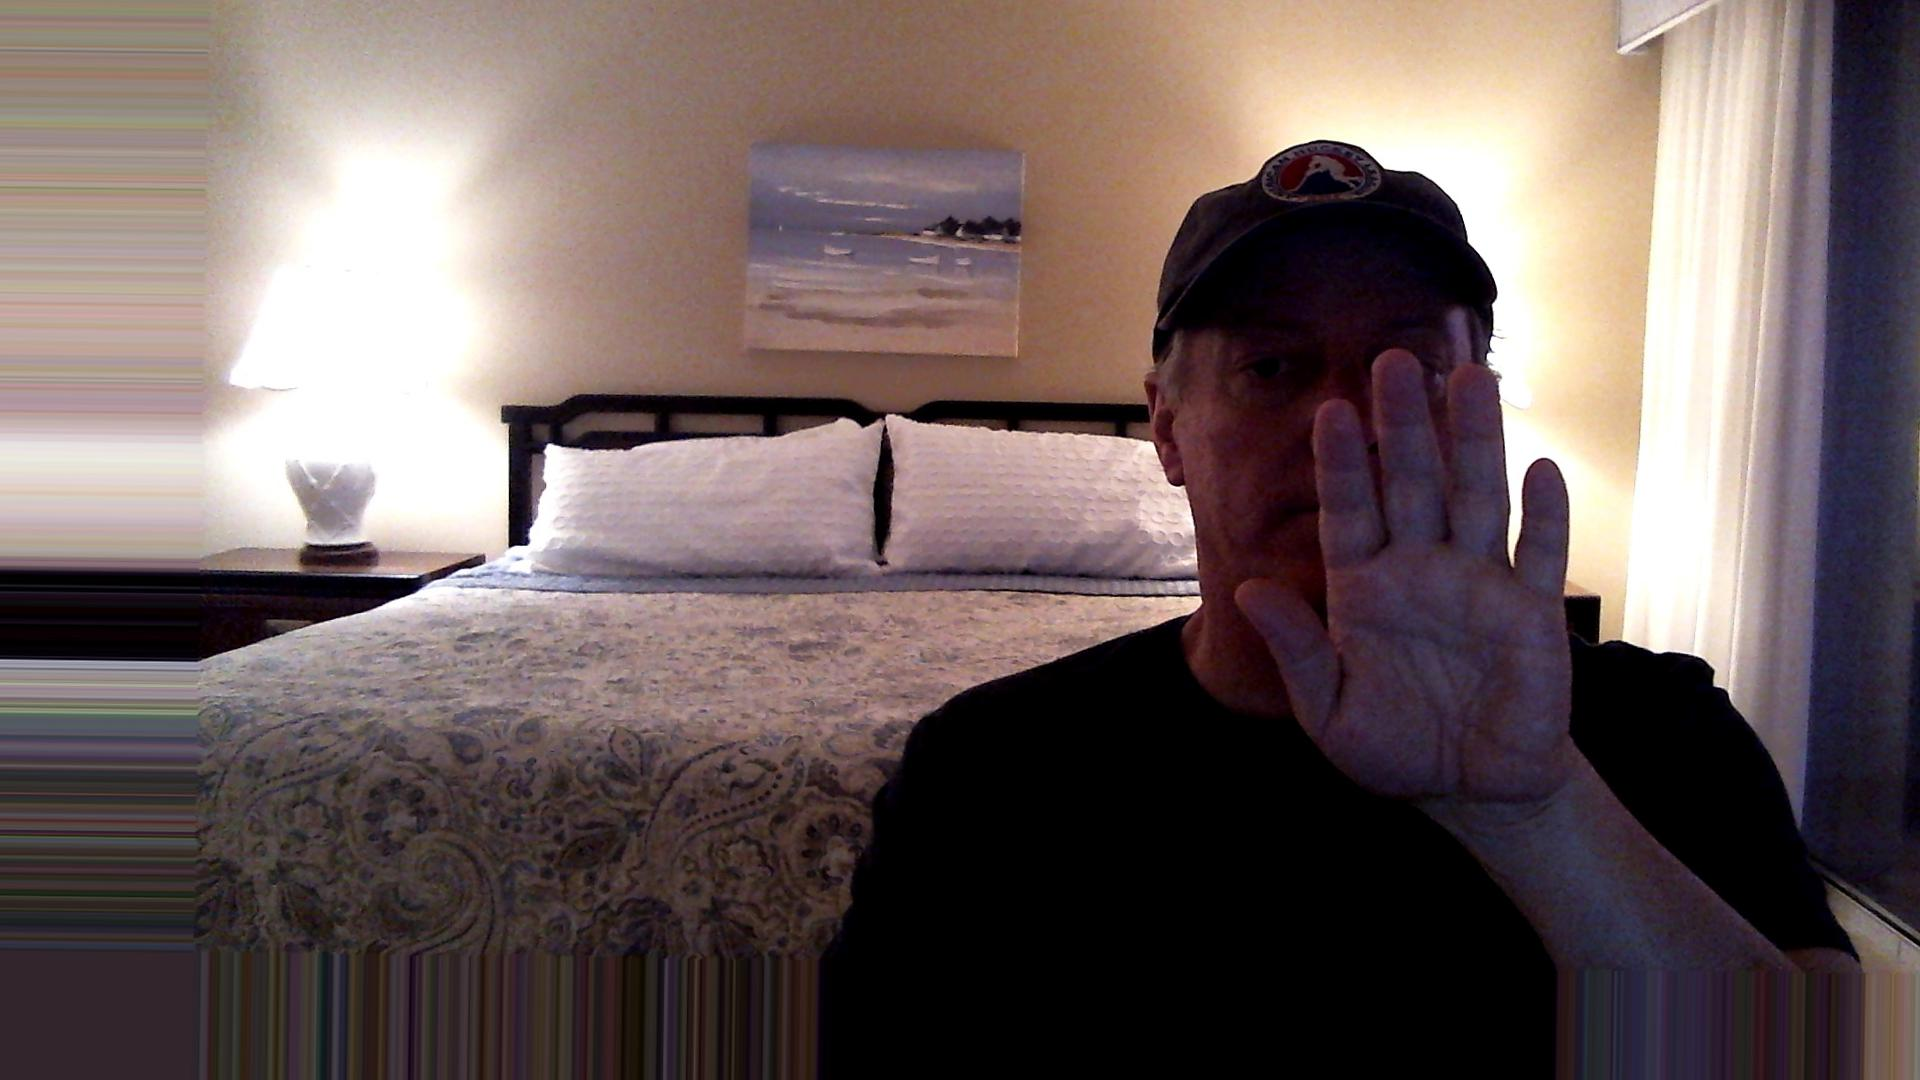Hello: (1207, 336, 1623, 822)
